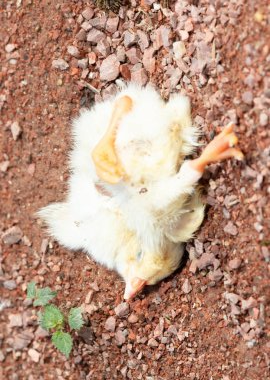Unhealthy: (46, 78, 247, 299)
